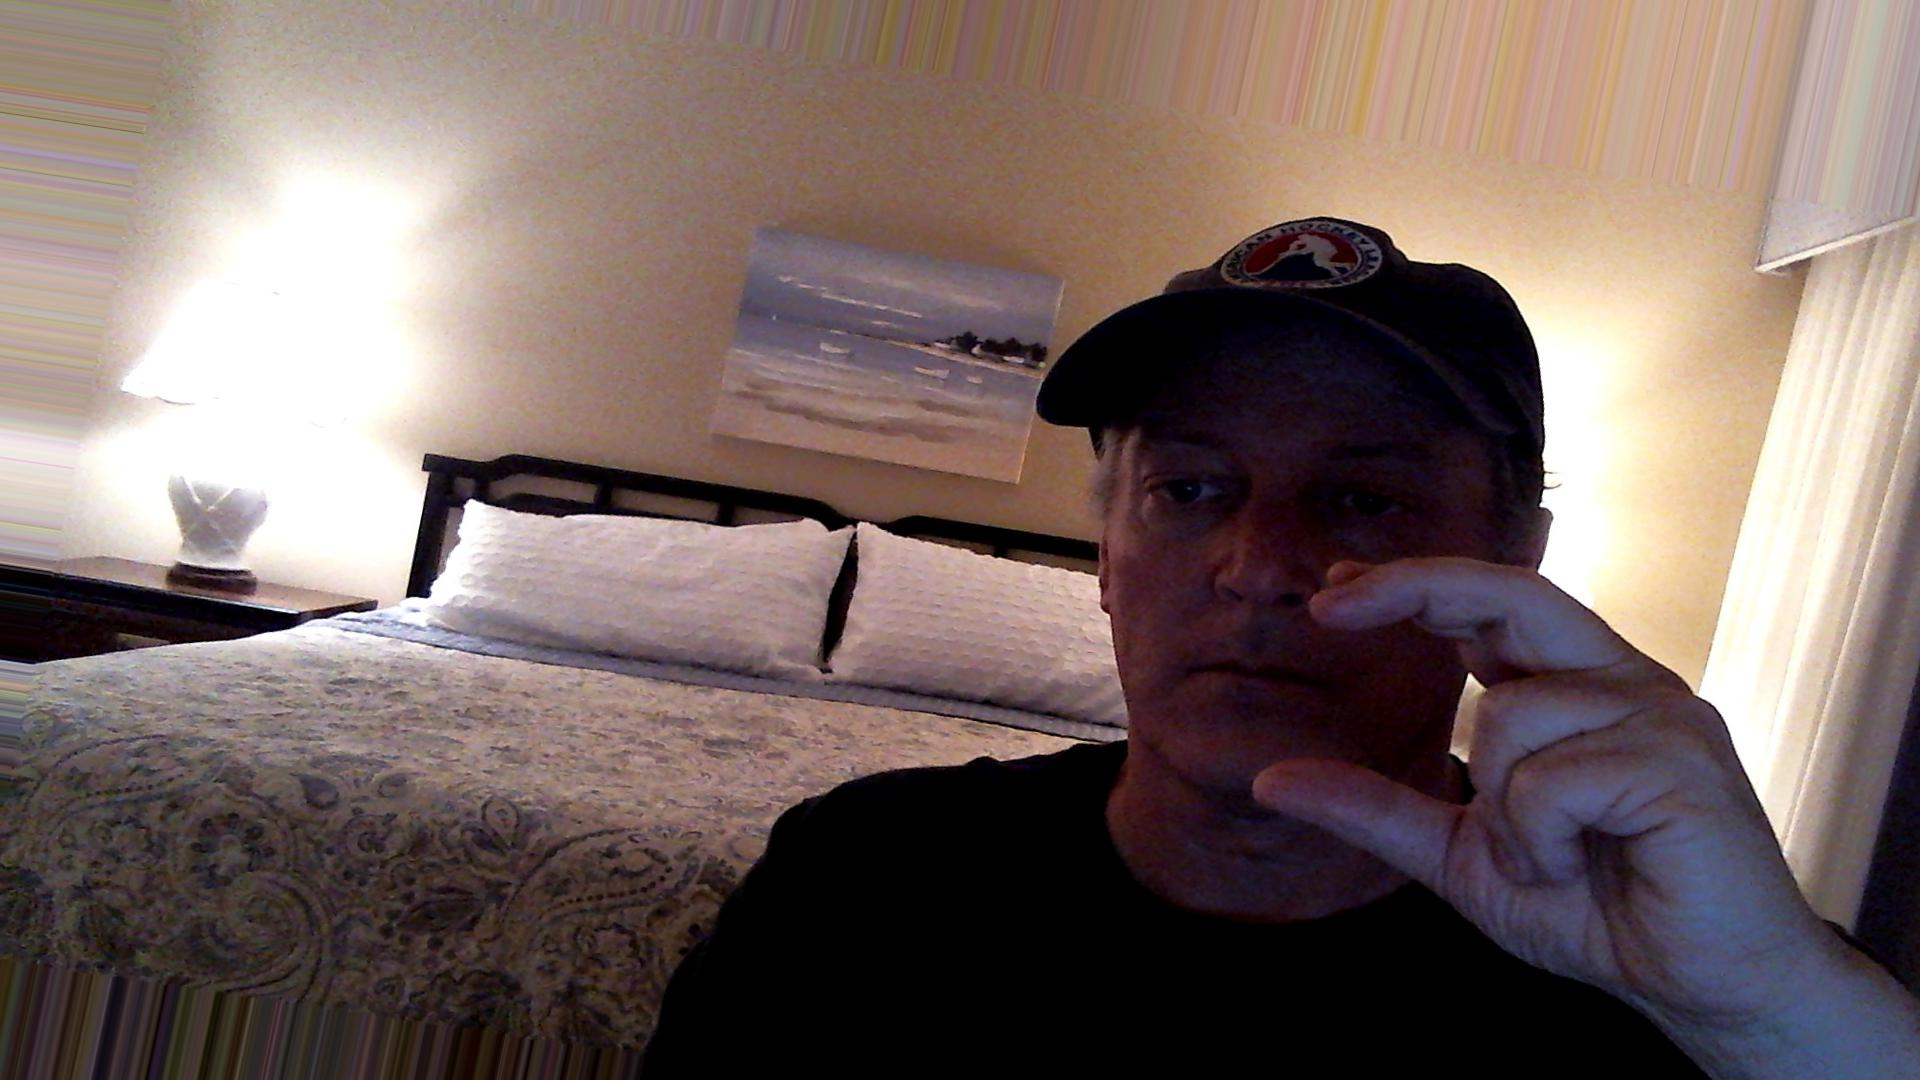No: (1225, 508, 1840, 1025)
